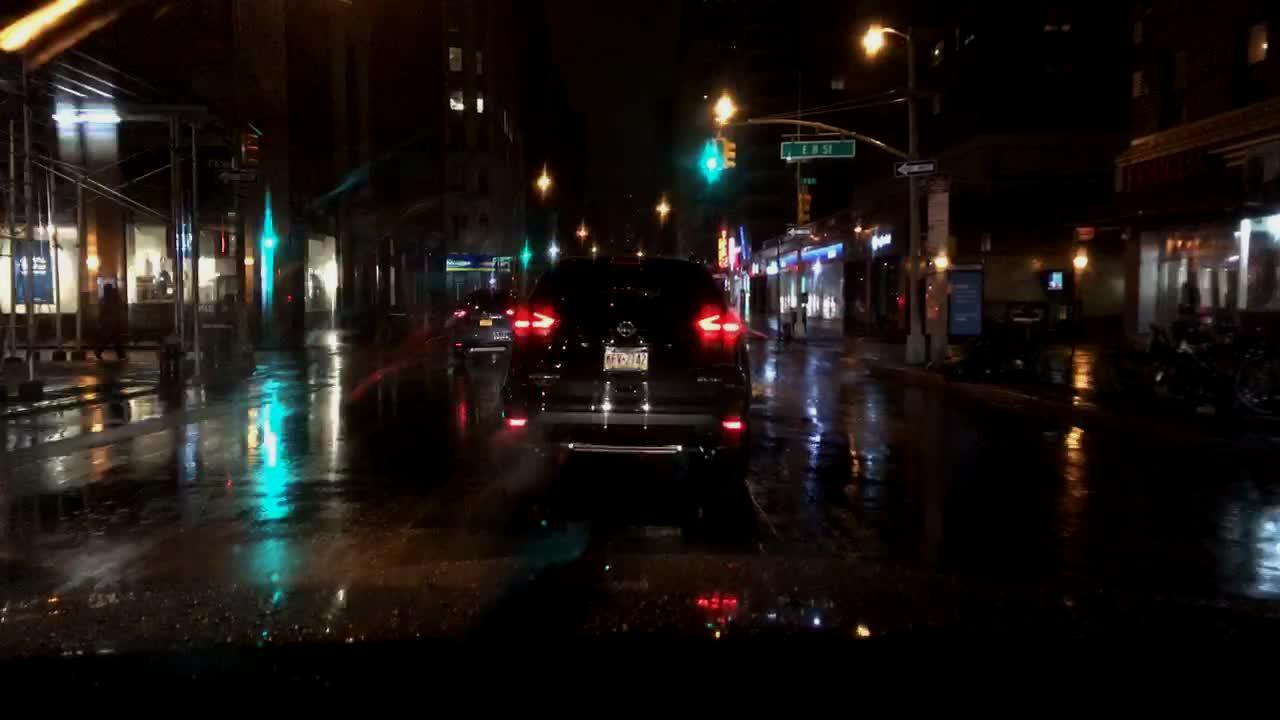Nissan: (610, 312, 641, 340)
